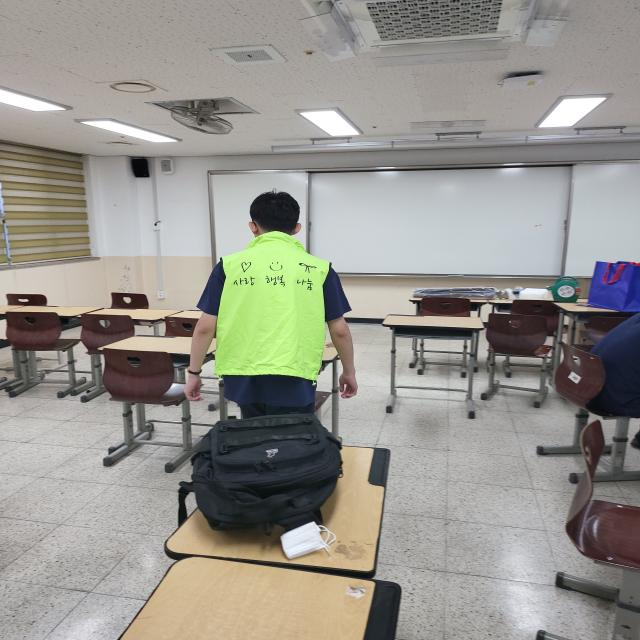weston_spy: (207, 236, 340, 382)
